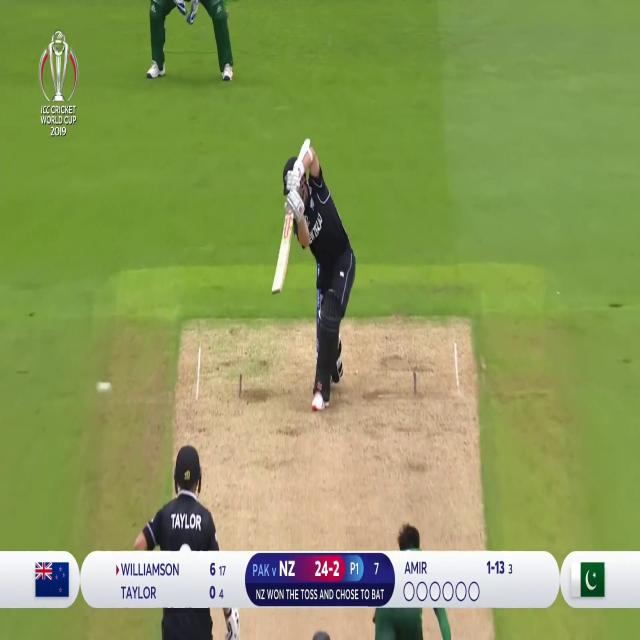bat: (273, 213, 293, 293)
toe: (271, 285, 284, 294)
